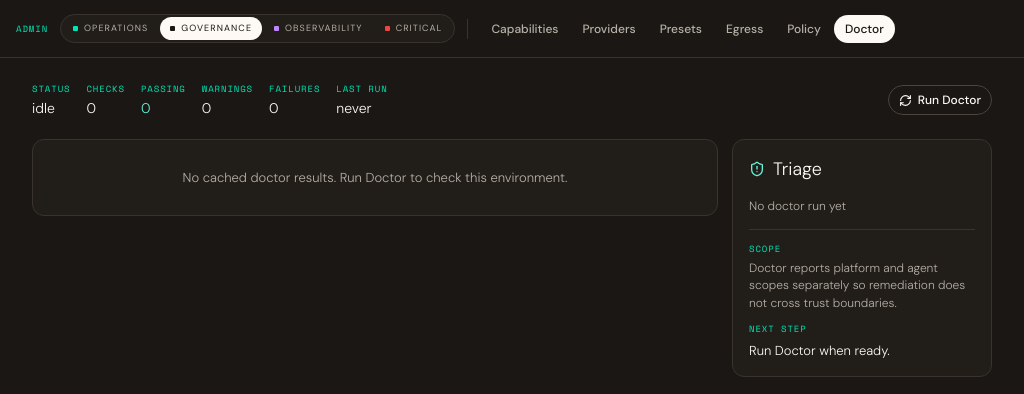
Admin — Doctor tab › runs doctor check
Click the button "Run Doctor" at (940, 100), box [888,85,992,115]
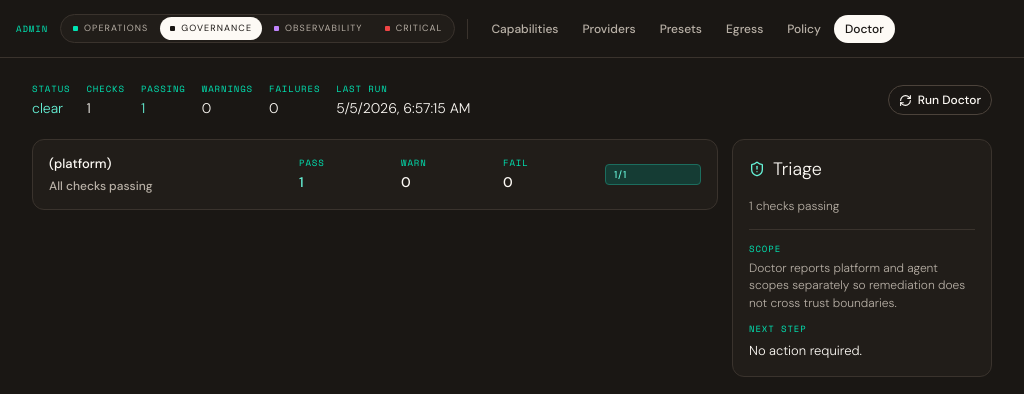
expect the text "(platform)" is shown: met
Note: Click the group card to expand and show individual check names
Click the text "(platform)" at (80, 163), box [49,154,112,172]
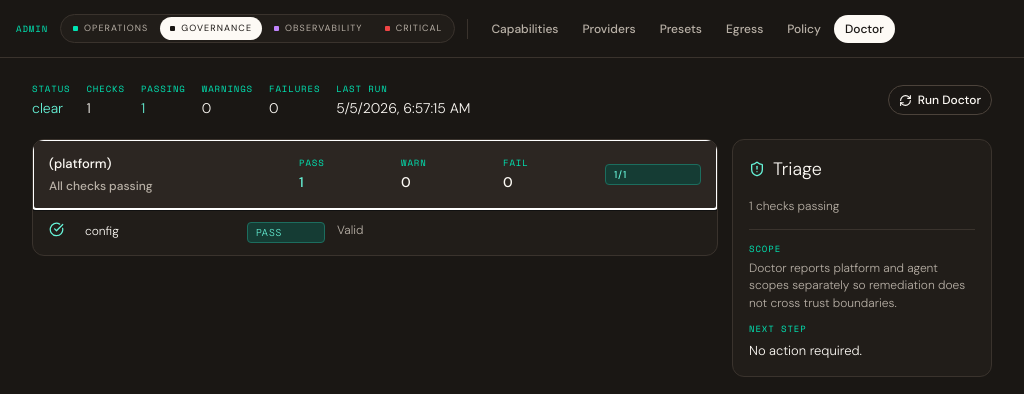
expect the text "config" is shown: met, box [85,223,119,239]
